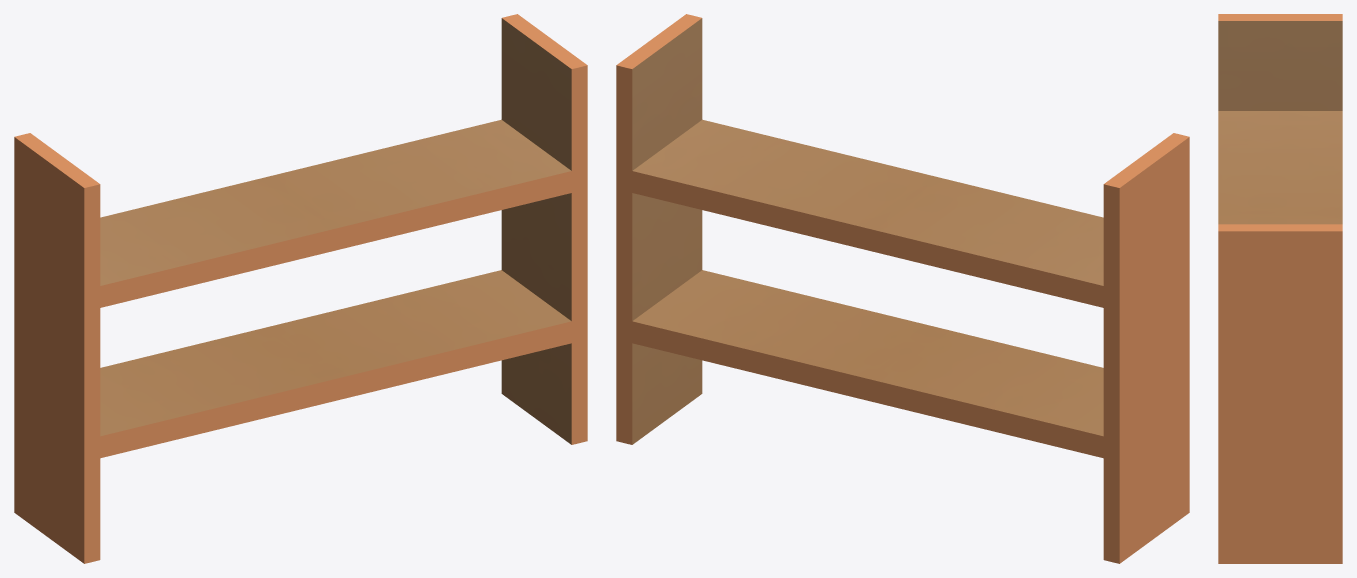
Rendered from shelf.fbx.
3 views of the same model, side by side, from view 1: azimuth 30°, elevation 25°; view 2: azimuth 150°, elevation 25°; view 3: azimuth 270°, elevation 25° (orthographic). The views are drawn at different scales.
Visible parts, largest first — view 1: Shelf; view 2: Shelf; view 3: Shelf.
Part boxes in pixels (x1,y1,x2,y2): Shelf: (14, 14, 587, 563); Shelf: (616, 14, 1189, 563); Shelf: (1218, 14, 1342, 563).
Size of the model in its own units: 280 by 200 by 67.65.
